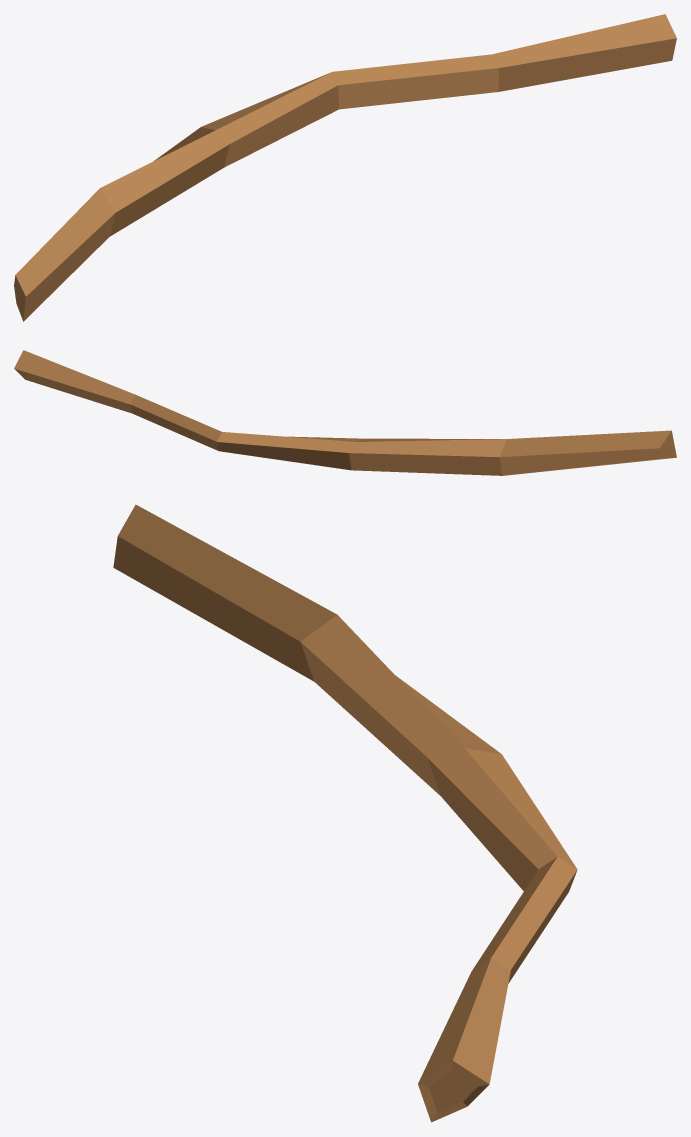
Rendered from Tronco1.fbx.
3 views of the same model, one above another, from view 1: azimuth 30°, elevation 25°; view 2: azimuth 150°, elevation 25°; view 3: azimuth 270°, elevation 25° (orthographic). The views are drawn at different scales.
Visible parts, largest first — view 1: Tronco1; view 2: Tronco1; view 3: Tronco1.
Part boxes in pixels (x1,y1,x2,y2): Tronco1: [14, 14, 676, 321]; Tronco1: [14, 350, 676, 475]; Tronco1: [113, 504, 577, 1122].
Size of the model in its own units: 10772 by 596 by 3804.
